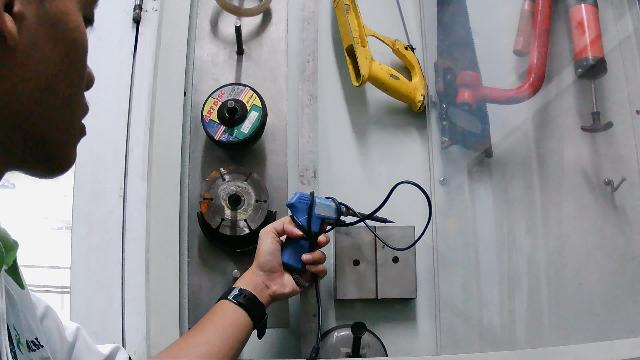solder_electrical: (277, 177, 437, 289)
